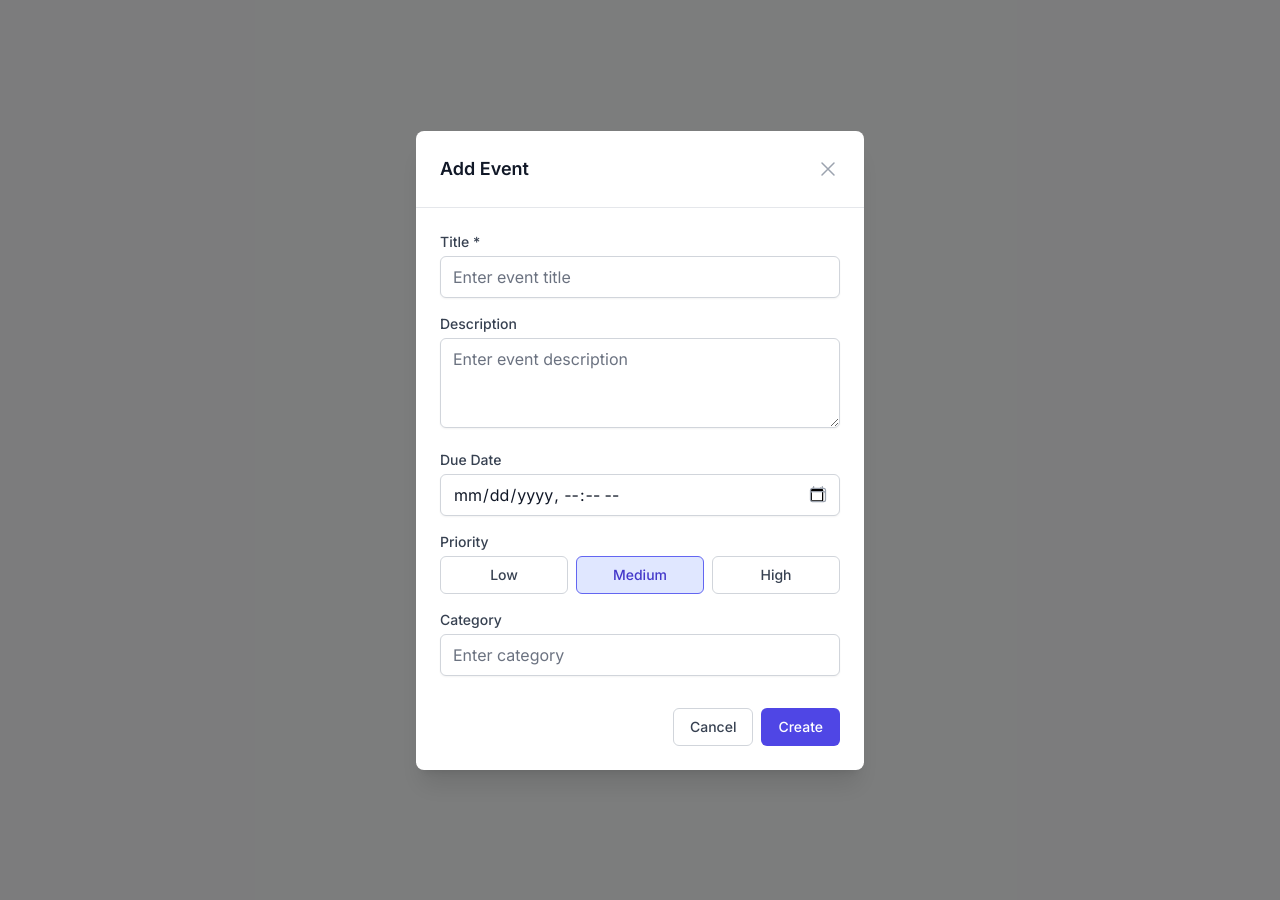
CalendarEventModal › should handle save errors
Type "Test Event" into the field labelled "Title *" at point(640, 276), box x1=440 y1=256 x2=840 y2=298
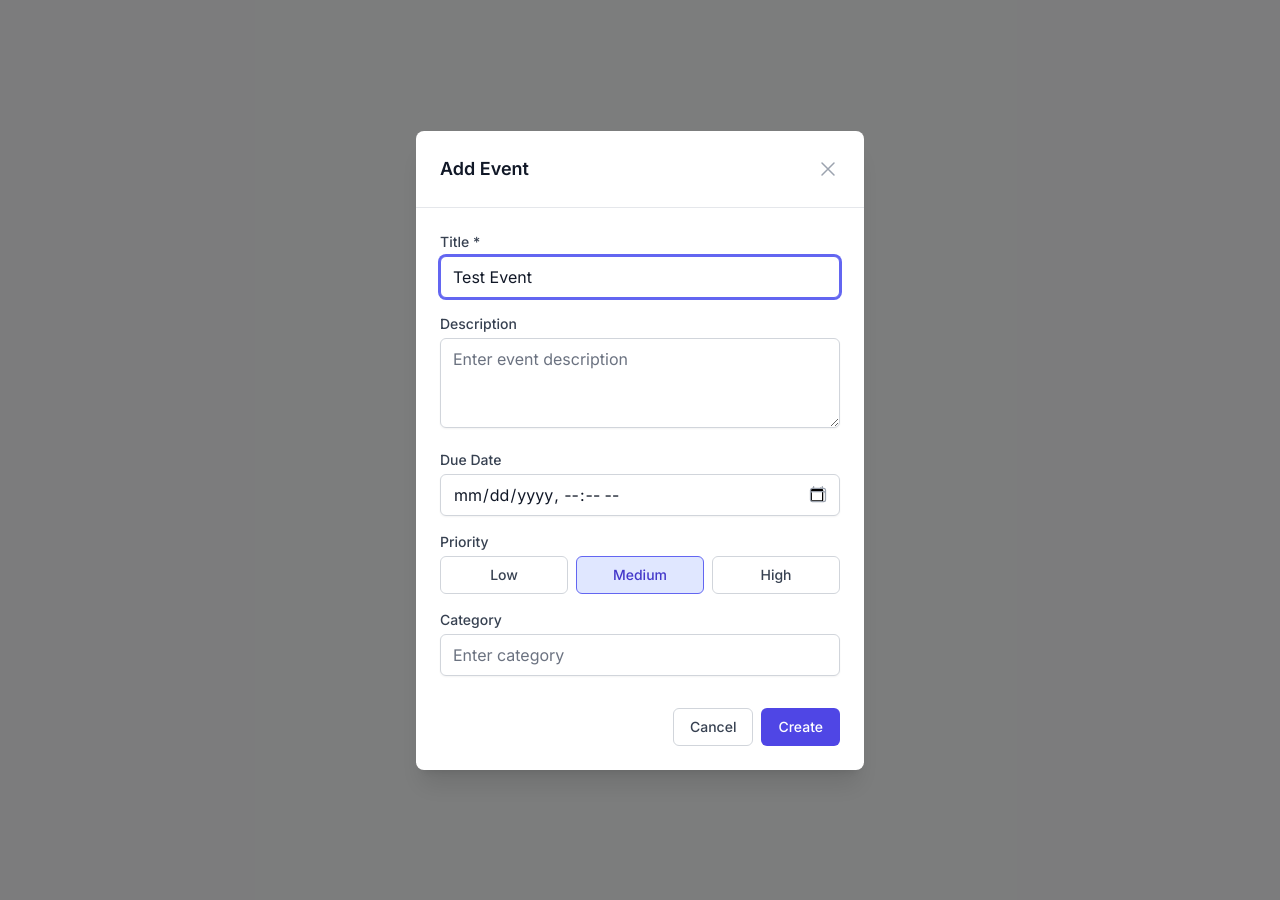
Click the button "Create" at point(801, 726), box x1=761 y1=708 x2=840 y2=746
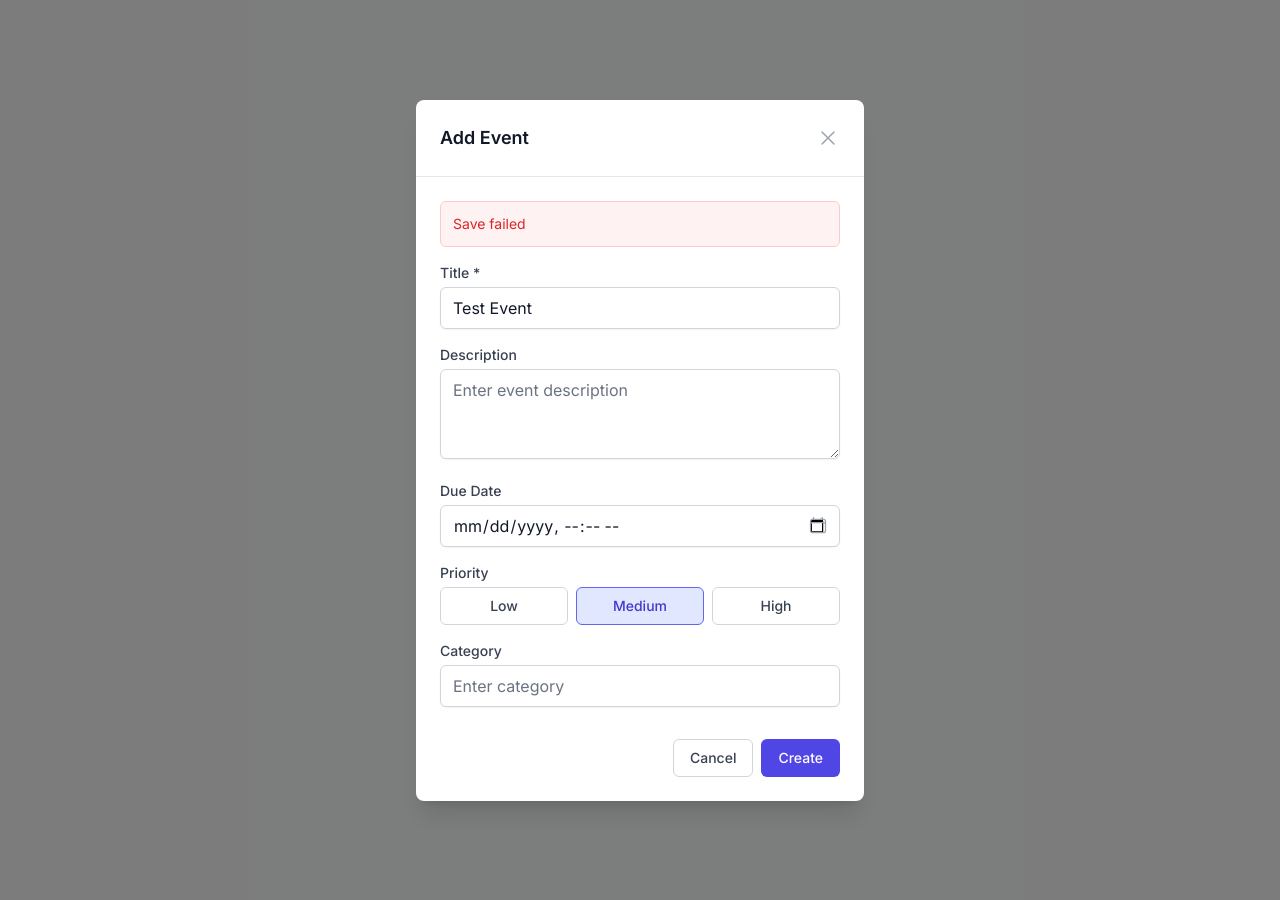
Now the text "Save failed" is shown, box x1=453 y1=214 x2=526 y2=232
